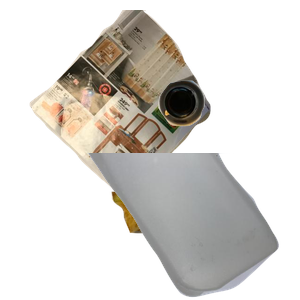glass: (156, 78, 300, 197)
paper: (27, 10, 230, 190)
plastic: (84, 153, 300, 300)
trash: (109, 175, 279, 300)
